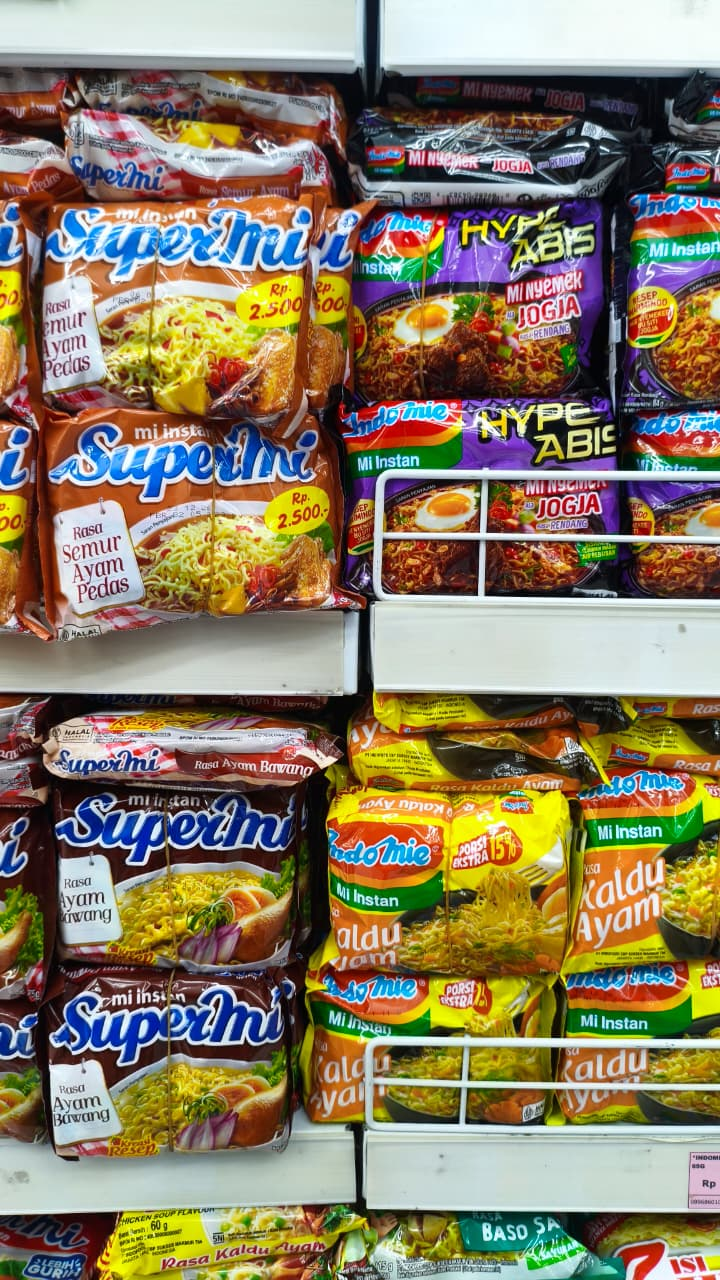Supermie: (31, 181, 319, 385), (43, 400, 331, 604), (37, 765, 325, 969), (22, 978, 310, 1182)
